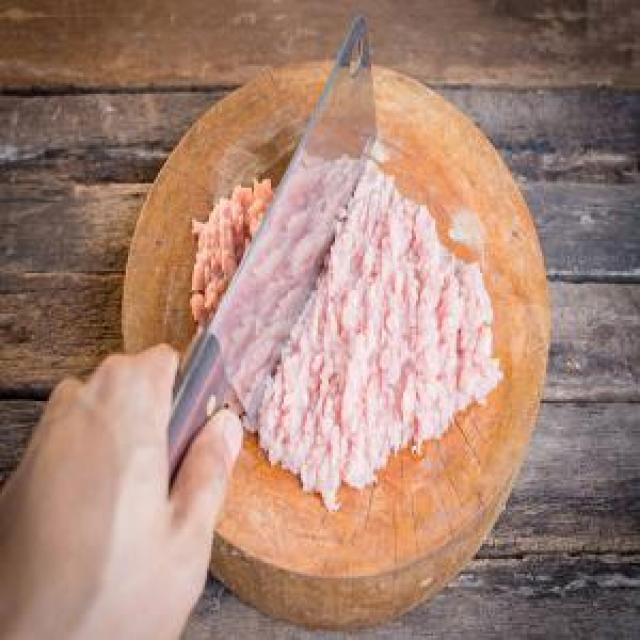knife: (85, 15, 381, 581)
